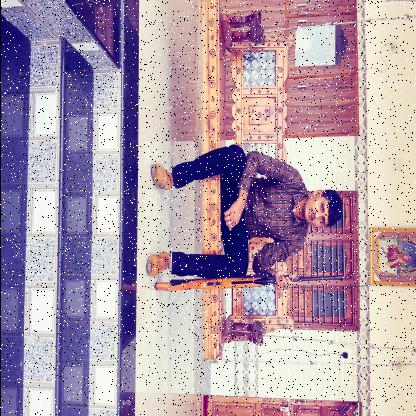rifle: (151, 272, 343, 296)
